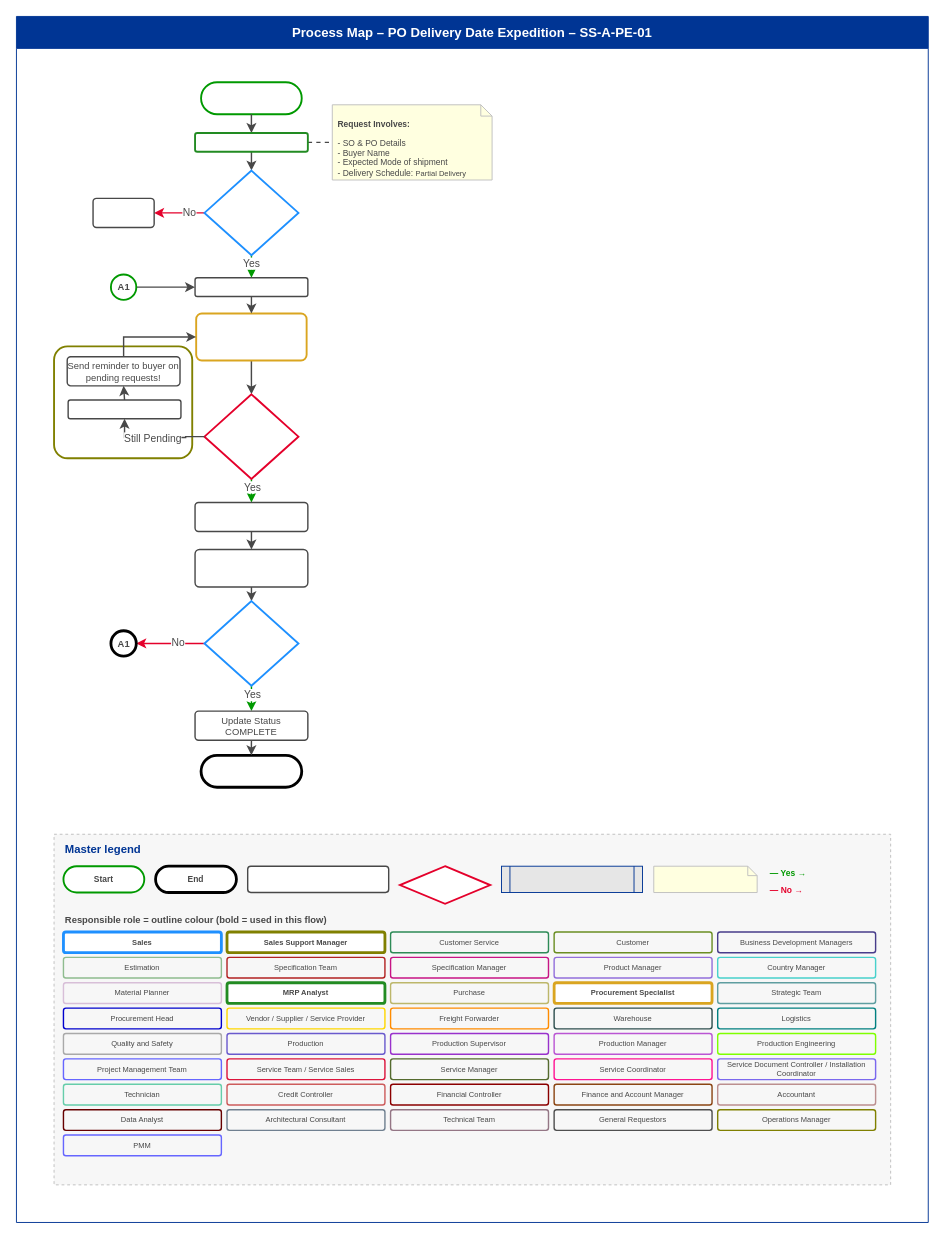
Some shapes in this 945 by 1239 pixel diagram are drawn without their labels. The shapes that lost their labels are listed below. From the top down, each one's box as (x1, y1, x2, y2) in pixels, then its label:
(200, 81, 302, 115): Start Process
(194, 132, 308, 152): Raise Expedition
(92, 197, 154, 228): Notify the requestor
(203, 169, 299, 256): Sales Approved ?
(194, 277, 308, 297): share request to Buyer
(195, 312, 307, 361): Validates the request, Raise query to vendor/Factory, and update status
(53, 345, 193, 459): Factory Followup
(67, 399, 181, 419): Weekdays 10:30 am
(203, 393, 299, 479): Status Changed (Factory Replied) ?
(194, 501, 308, 532): Update log sheets (Buyer & Sales)
(194, 548, 308, 587): Notify requestor & Sales Person on Outcome
(203, 600, 299, 686): Sales Accepted ?
(199, 753, 303, 788): Complete
(247, 865, 389, 893): Activity (outline = role)
(399, 865, 491, 904): Decision
(501, 865, 642, 893): Linked process (Ref ID)
(653, 865, 757, 893): Note / checklist
